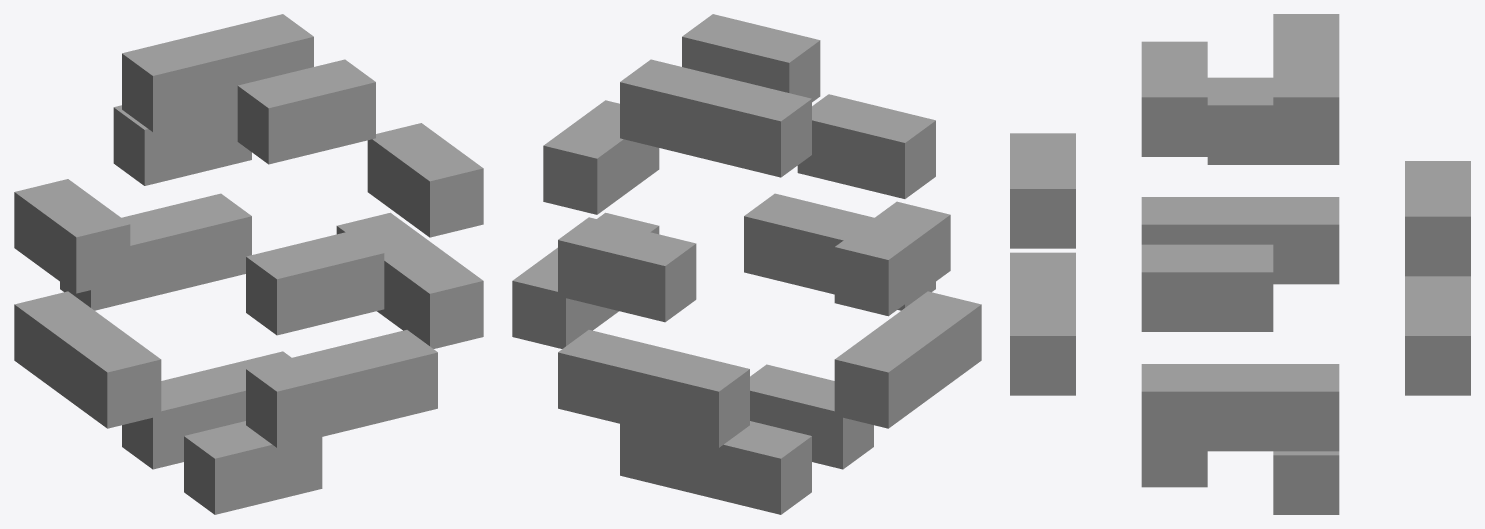
3 renders of one model, left to right at view 1: azimuth 30°, elevation 25°; view 2: azimuth 150°, elevation 25°; view 3: azimuth 270°, elevation 25°, orthographic. The views are drawn at different scales.
Visible parts, largest first — view 1: 17.1; view 2: 17.1; view 3: 17.1.
Boxes of the visible parts, left/top/right/bottom form: 17.1: left=14, top=14, right=483, bottom=514; 17.1: left=512, top=14, right=981, bottom=514; 17.1: left=1010, top=14, right=1470, bottom=514.
Size of the model in its own units: 70 by 70 by 70.
1 material, 1 textured.
